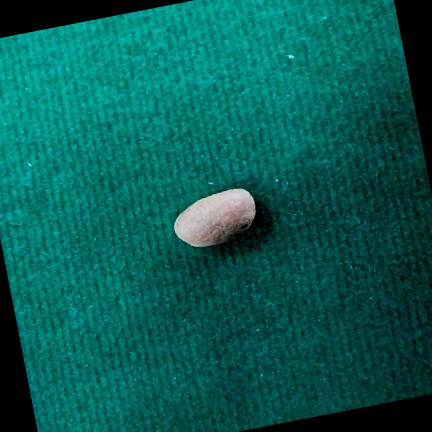shell: (175, 188, 256, 247)
